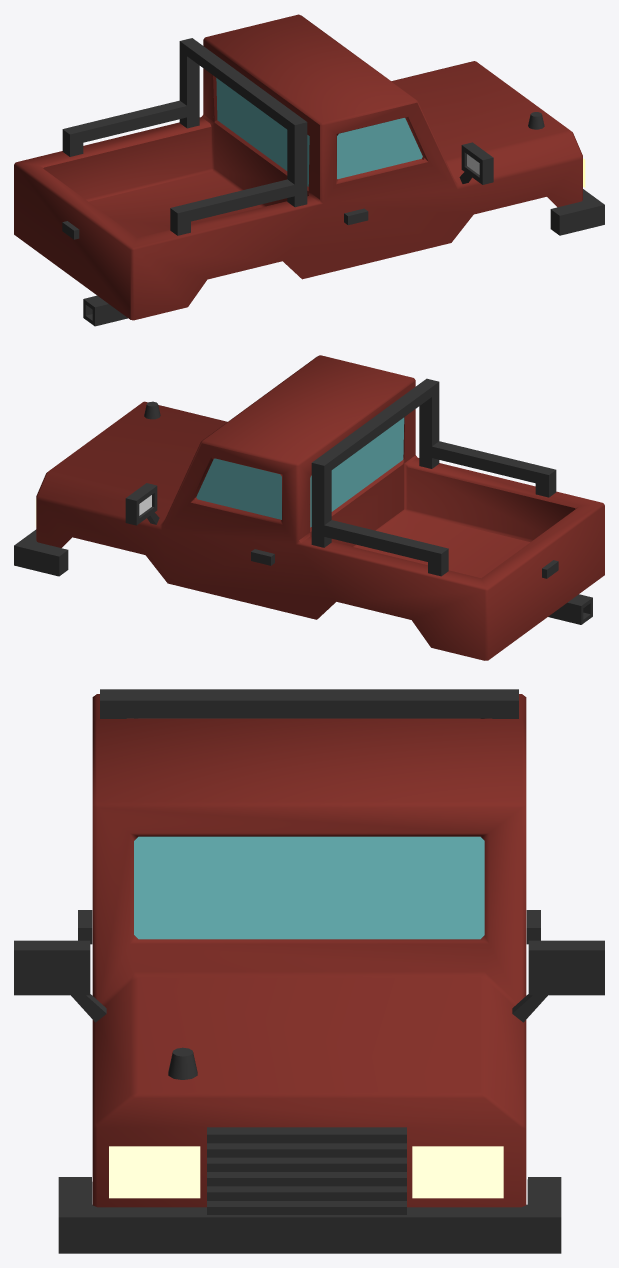
File: chassis.glb
The picture shows the model from 3 angles, top to bottom: view 1: azimuth 30°, elevation 25°; view 2: azimuth 150°, elevation 25°; view 3: azimuth 270°, elevation 25°; orthographic projection. The views are drawn at different scales.
Parts seen in each view (by area): view 1: shadeRed_002, shadeBlack_009, shadeWhite.001, Cube.151, shadeBlack_023, shadeWhite_009; view 2: shadeRed_002, shadeBlack_009, shadeWhite.001, Cube.151, shadeBlack_011, shadeWhite_009; view 3: shadeRed_002, shadeWhite.001, Cube.151, shadeBlack_008, shadeBlack_009, pureYellow_001, pureYellow_002, shadeBlack_011, shadeBlack_023, shadeBlack_016.
Part boxes in pixels (box(x1,y1,x2,y2)): shadeRed_002: box(14, 14, 582, 320); shadeBlack_009: box(62, 38, 307, 235); shadeWhite.001: box(216, 78, 422, 186); Cube.151: box(550, 189, 604, 235); shadeBlack_023: box(459, 142, 493, 184); shadeWhite_009: box(83, 295, 127, 326); shadeRed_002: box(36, 355, 604, 660); shadeBlack_009: box(311, 378, 556, 576); shadeWhite.001: box(196, 417, 404, 527); Cube.151: box(14, 529, 68, 576); shadeBlack_011: box(125, 483, 159, 525); shadeWhite_009: box(548, 594, 592, 624); shadeRed_002: box(92, 694, 526, 1207); shadeWhite.001: box(134, 836, 484, 939); Cube.151: box(58, 1177, 561, 1253); shadeBlack_008: box(207, 1127, 406, 1214); shadeBlack_009: box(100, 689, 518, 718); pureYellow_001: box(412, 1146, 503, 1198); pureYellow_002: box(109, 1146, 200, 1198); shadeBlack_011: box(512, 940, 604, 1022); shadeBlack_023: box(14, 940, 106, 1022); shadeBlack_016: box(168, 1047, 197, 1079).
Bounding box in the file's own units: 1.99 × 0.7016 × 1.18.
